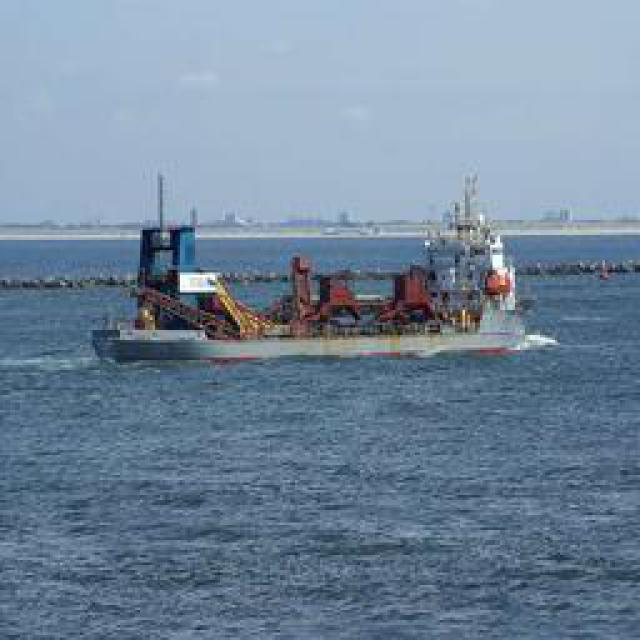Ship: (104, 171, 537, 384)
